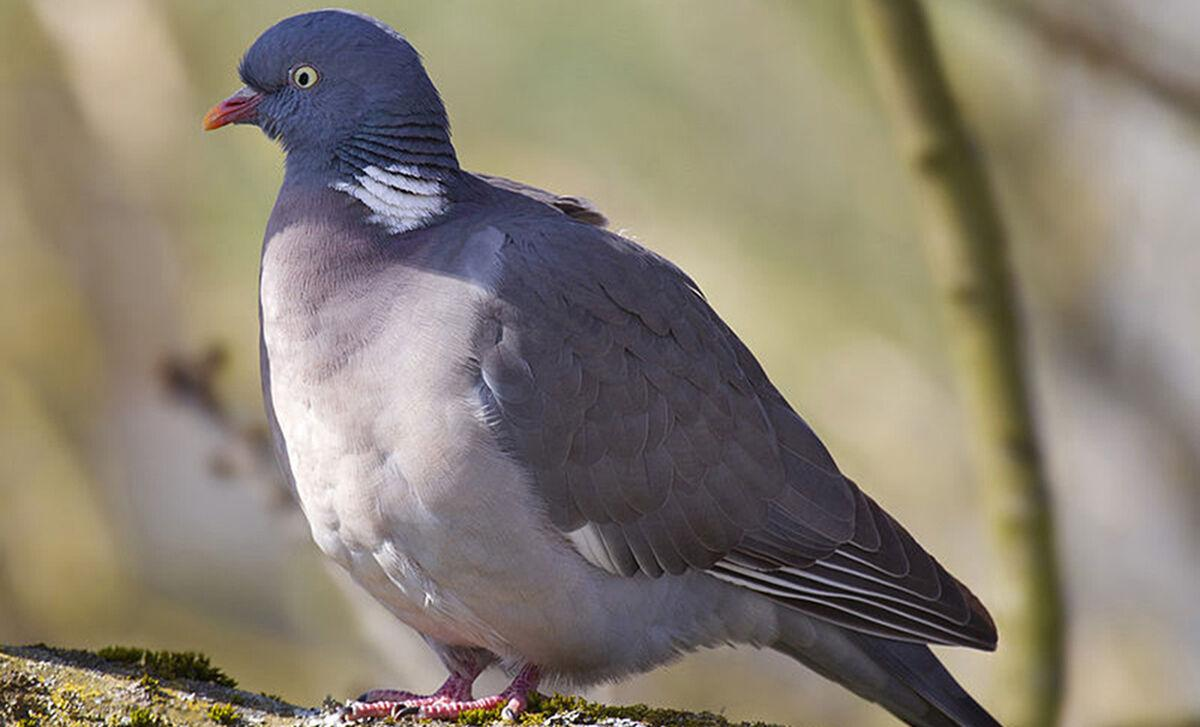Flying Rat: (187, 1, 1004, 727)
